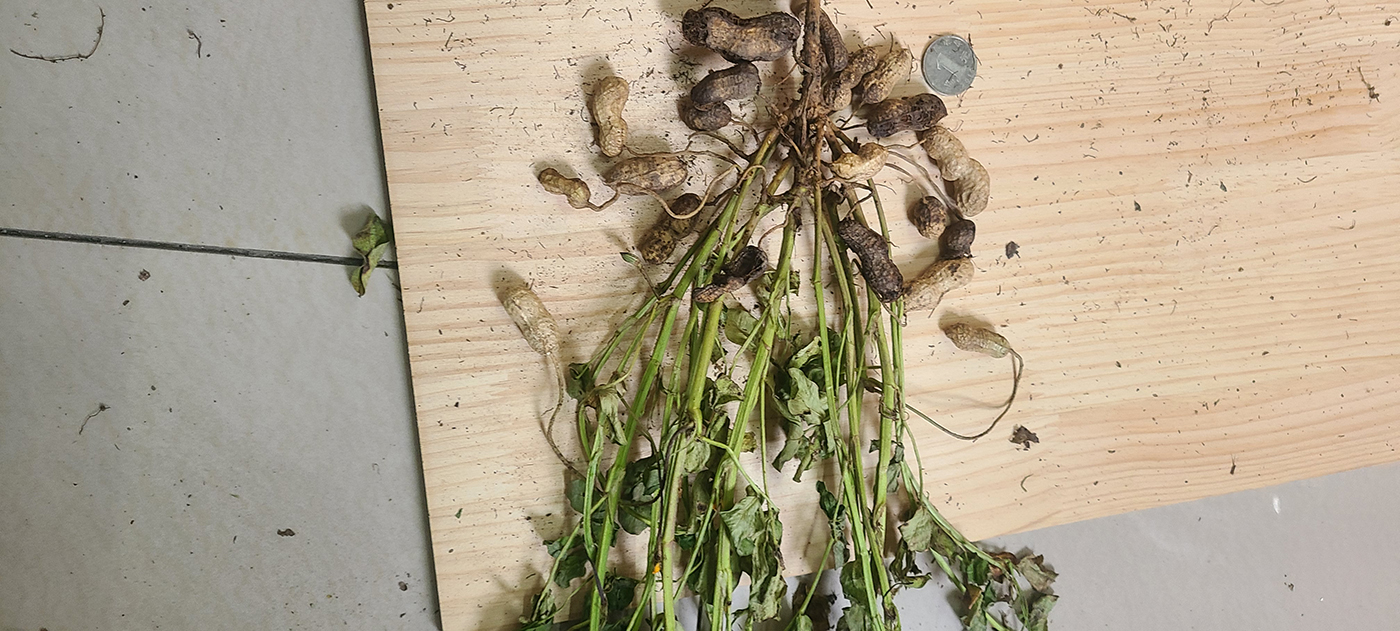h: (901, 220, 977, 311), (922, 127, 991, 218), (500, 284, 562, 355), (639, 196, 702, 263), (588, 76, 630, 155), (602, 155, 687, 194), (862, 50, 914, 108), (825, 48, 874, 109), (945, 323, 1009, 359), (812, 7, 848, 71), (830, 143, 889, 182), (538, 168, 591, 209), (913, 195, 947, 239)
l: (681, 6, 799, 62), (835, 218, 904, 303), (685, 64, 760, 134), (694, 246, 767, 301), (867, 95, 949, 137)
